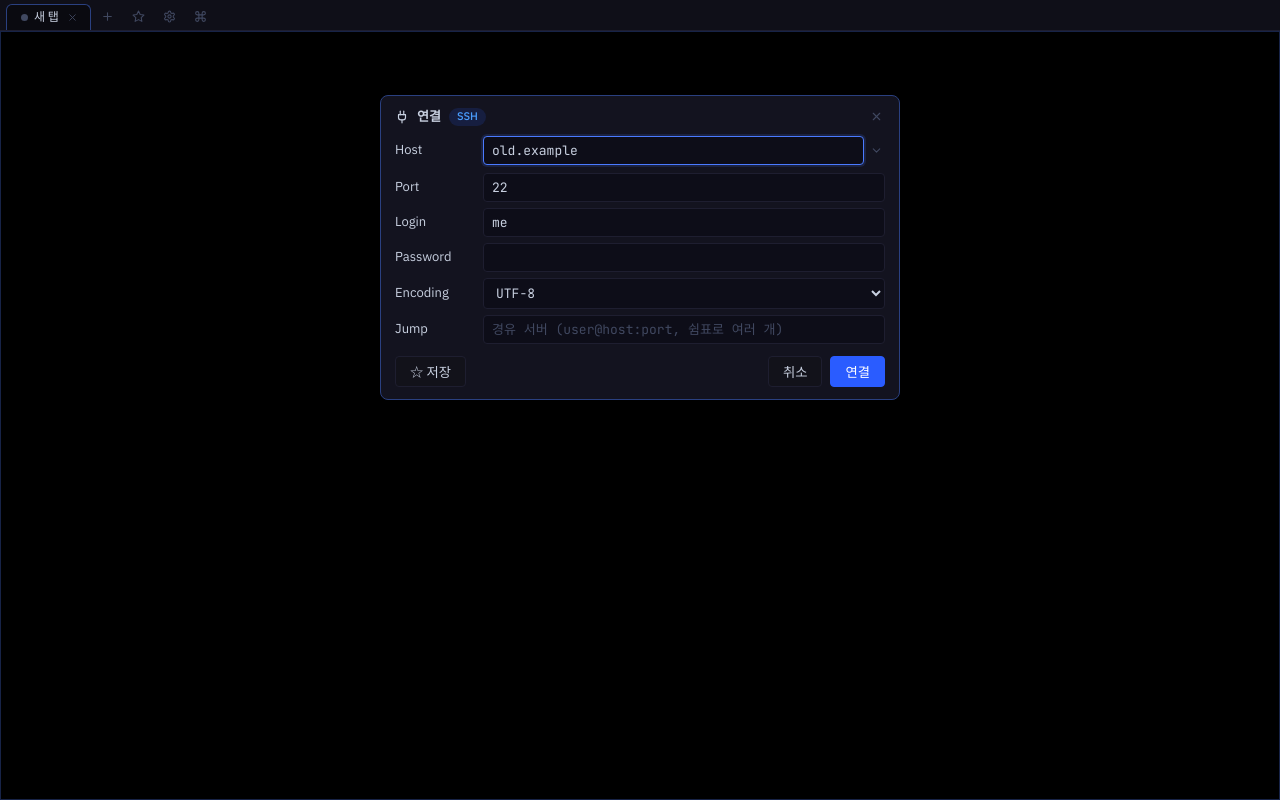
Test: TerminalWorkspace (TW) › TW-02: Host 목록 — 최근/ssh_config/로컬 셸 표시, 클릭하면 필드 채움
This screenshot has width=1280, height=800.
Expected: the field labelled "Host" is shown, [483,136,864,165]
Click the button titled "목록 열기" at coordinates (876, 150), box [868,136,885,165]
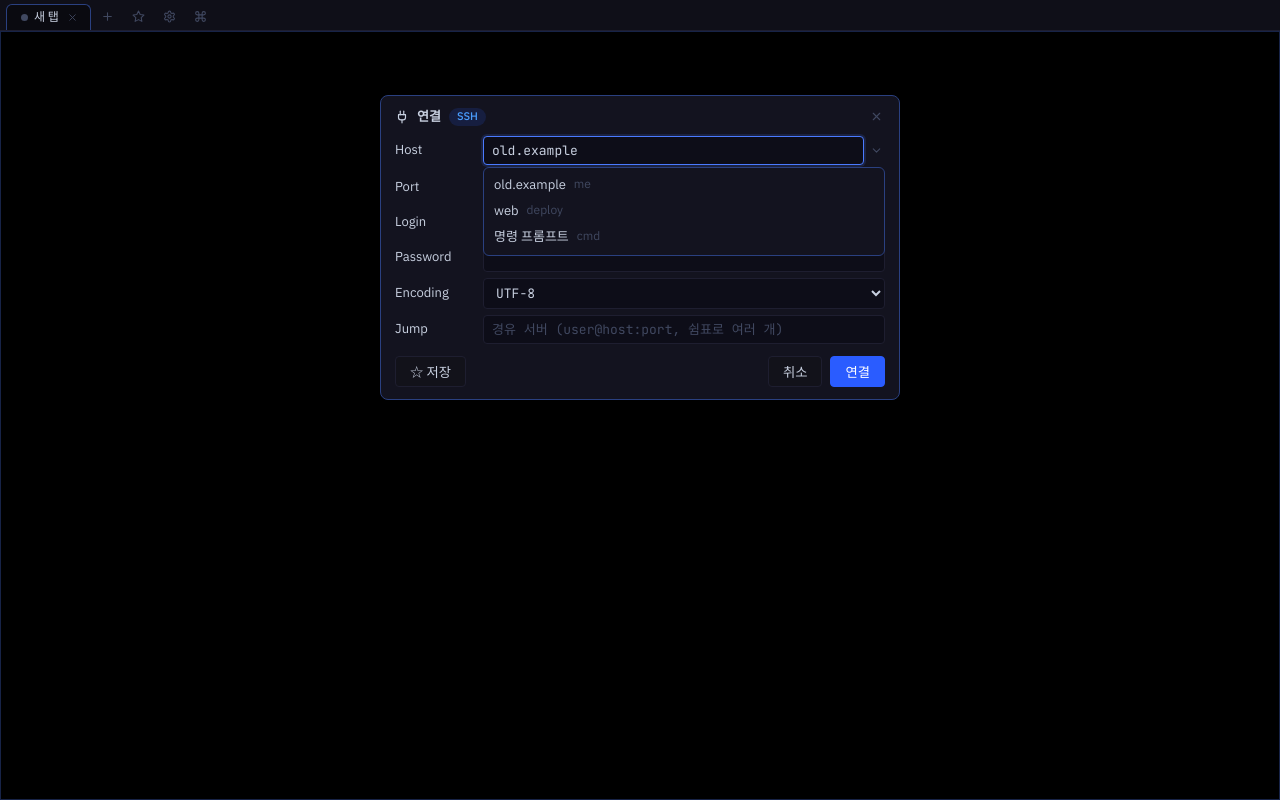
Now the text "web" is shown, box [494,202,519,220]
Press the mouse on the text "명령 프롬프트" at coordinates (531, 238), box [494,228,569,247]
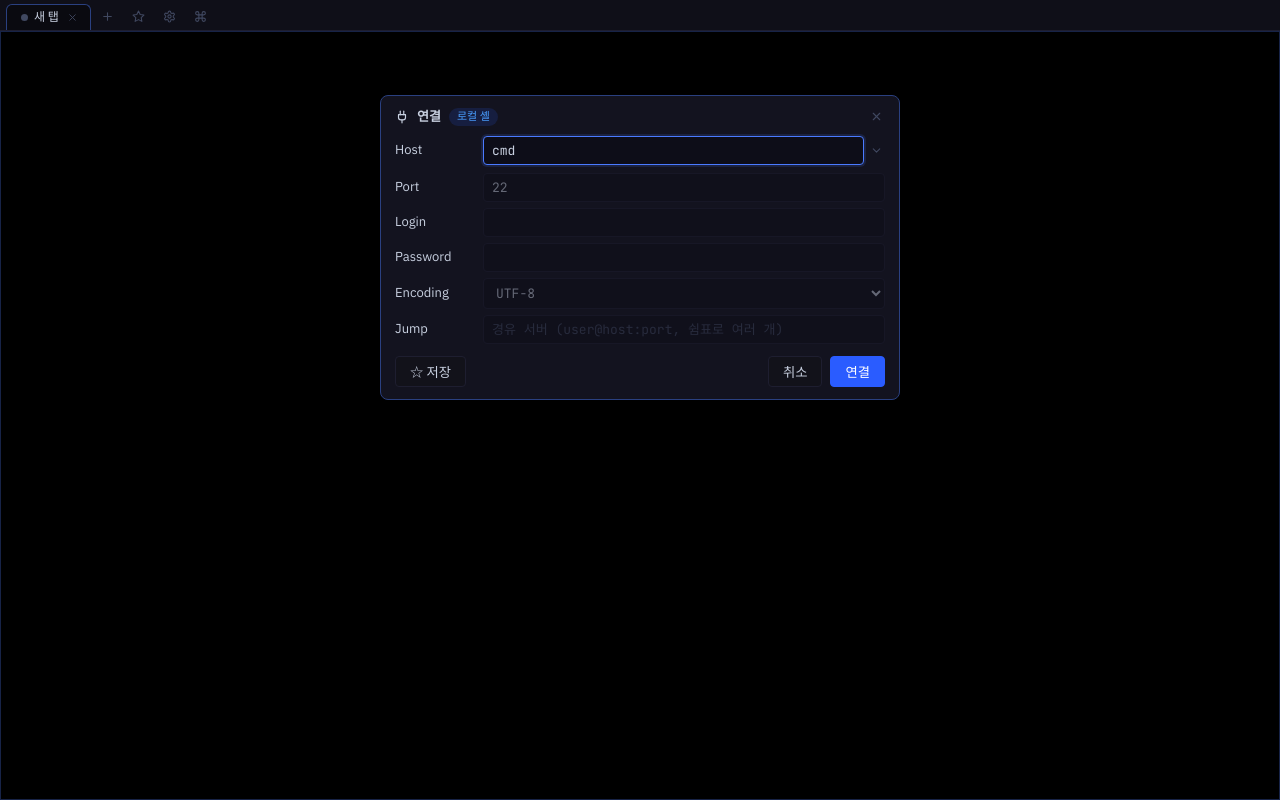
Now the field labelled "Host" holds "cmd", box [483,136,864,165]
Now the text "로컬 셸" is shown, box [449,108,498,126]
Now the field labelled "Port" is disabled, box [483,173,885,202]
